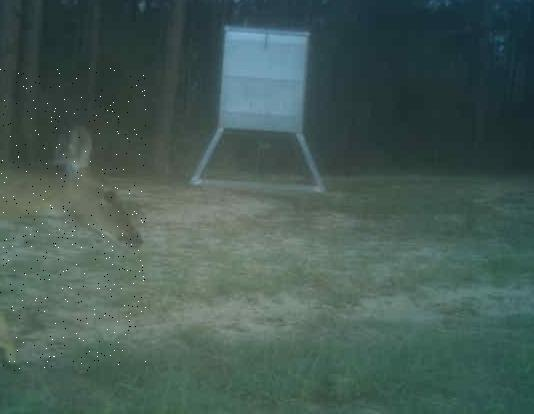Deer: (0, 68, 146, 371)
